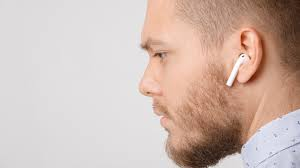earphone: (226, 27, 263, 87)
